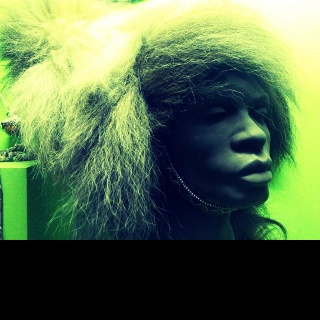without_mask: (151, 69, 273, 208)
